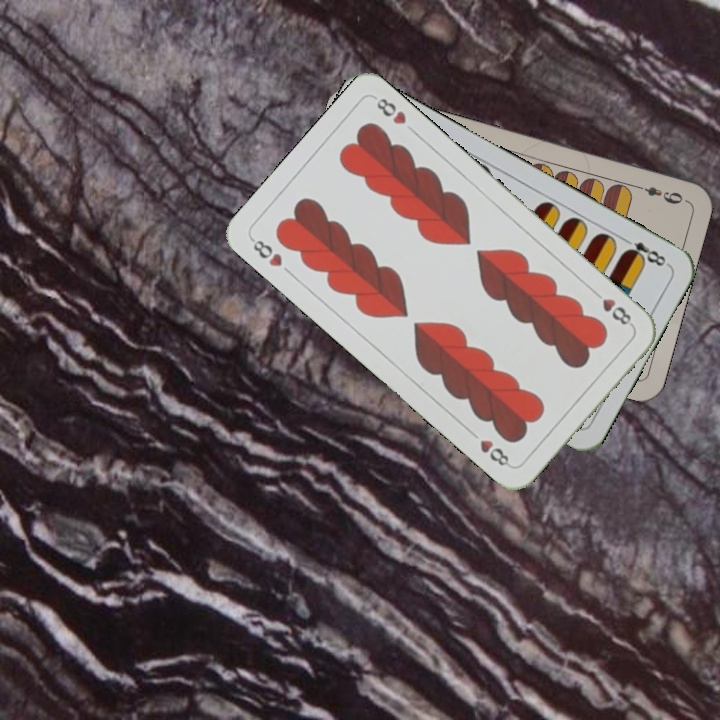E8: (617, 233, 671, 269)
E9: (630, 180, 686, 207)
H8: (588, 285, 636, 329), (246, 234, 285, 270)
